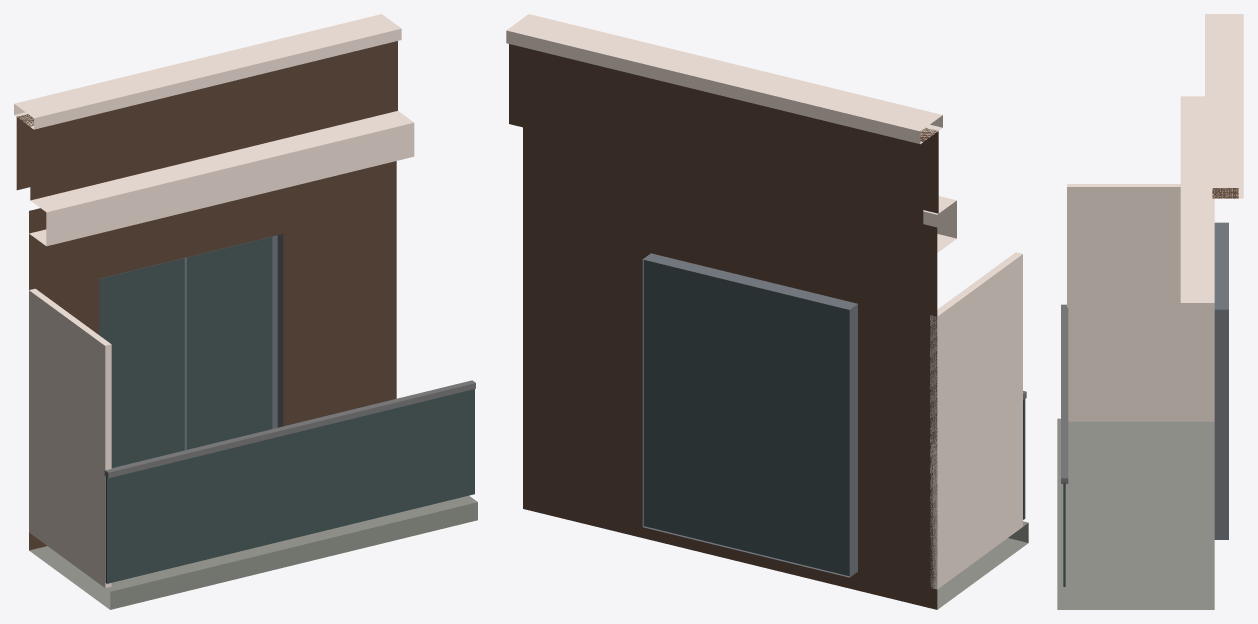
Rendered from top-w1.fbx.
3 views of the same model, side by side, from view 1: azimuth 30°, elevation 25°; view 2: azimuth 150°, elevation 25°; view 3: azimuth 270°, elevation 25° (orthographic). The views are drawn at different scales.
Visible parts, largest first — view 1: a2001/800/top-w1; view 2: a2001/800/top-w1; view 3: a2001/800/top-w1.
Part boxes in pixels (x1=…): a2001/800/top-w1: x1=14, y1=14, x2=477, y2=609; a2001/800/top-w1: x1=506, y1=14, x2=1028, y2=609; a2001/800/top-w1: x1=1057, y1=14, x2=1243, y2=609.
Bounding box in the file's own units: 3.4 × 3.85 × 1.54.
